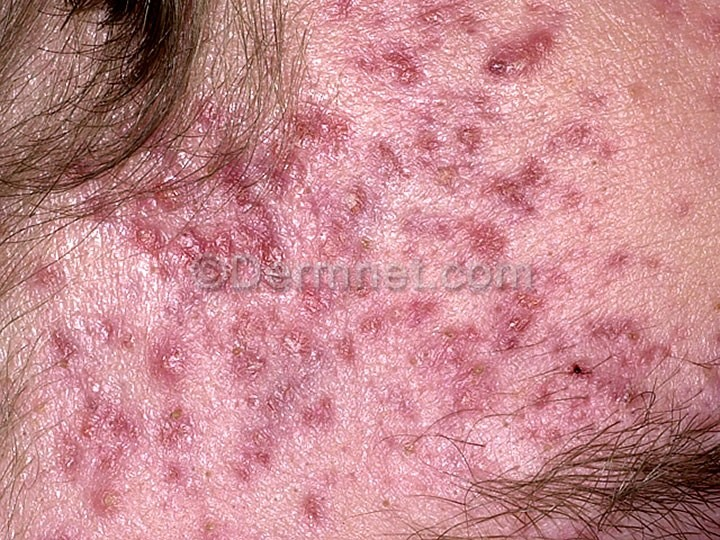Acne: (496, 307, 531, 359), (477, 44, 519, 83), (154, 343, 183, 377), (436, 163, 464, 194), (341, 186, 364, 221)
